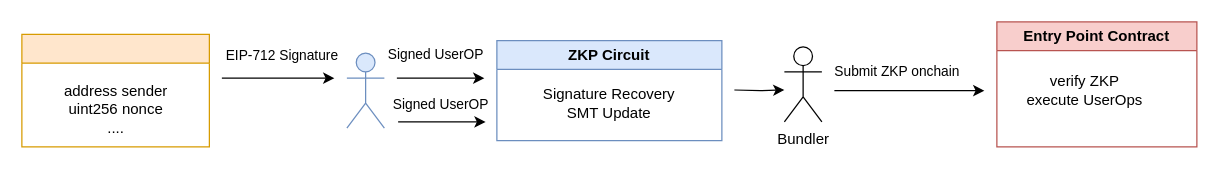
Image size: 1219x176. Some labels were removed from this diagram. Here are the shapes that lost their labels. From the top down, the box of each, then its label:
(21, 33, 209, 147): User Operation
(346, 52, 384, 128): User
